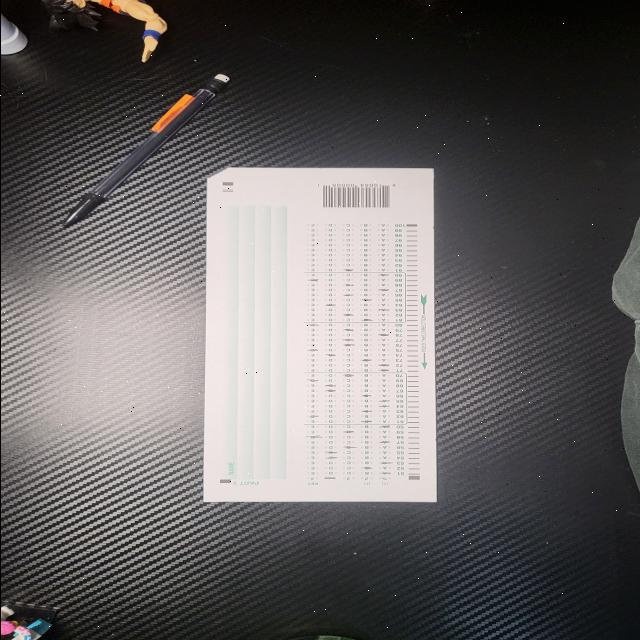scantron_back: (202, 167, 436, 503)
